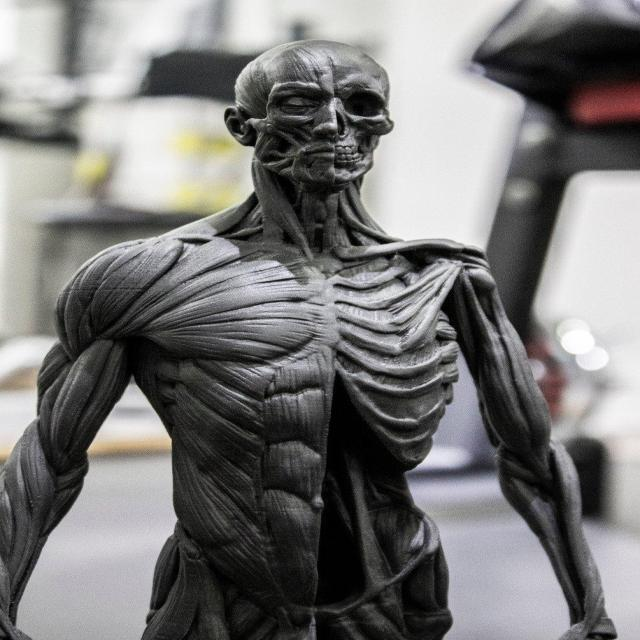Without deffect: (0, 24, 639, 640)
